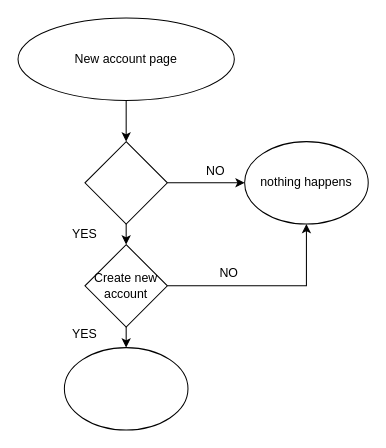
Some shapes in this 386 by 448 pixel diagram are drawn without their labels. Here are the shapes that lost their labels. From the top down, the centre of each, then its label:
the point at 125,182: enter info
the point at 125,388: Brings you back to index page
